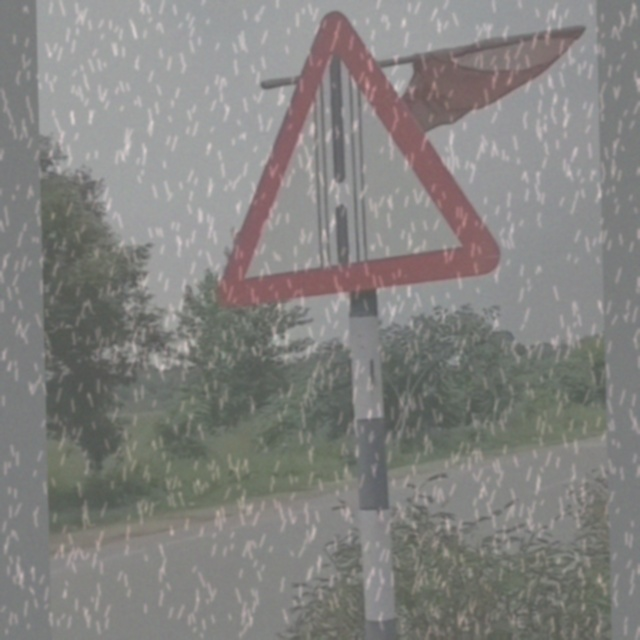Gap_in_Median: (215, 17, 499, 296)
